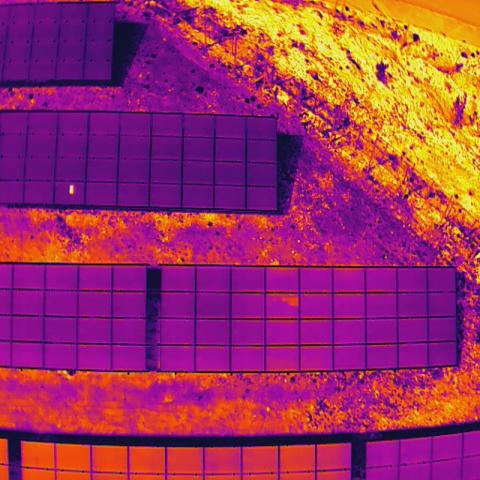fault: (288, 296, 298, 307), (281, 296, 289, 303), (68, 188, 74, 195), (68, 182, 74, 189)
